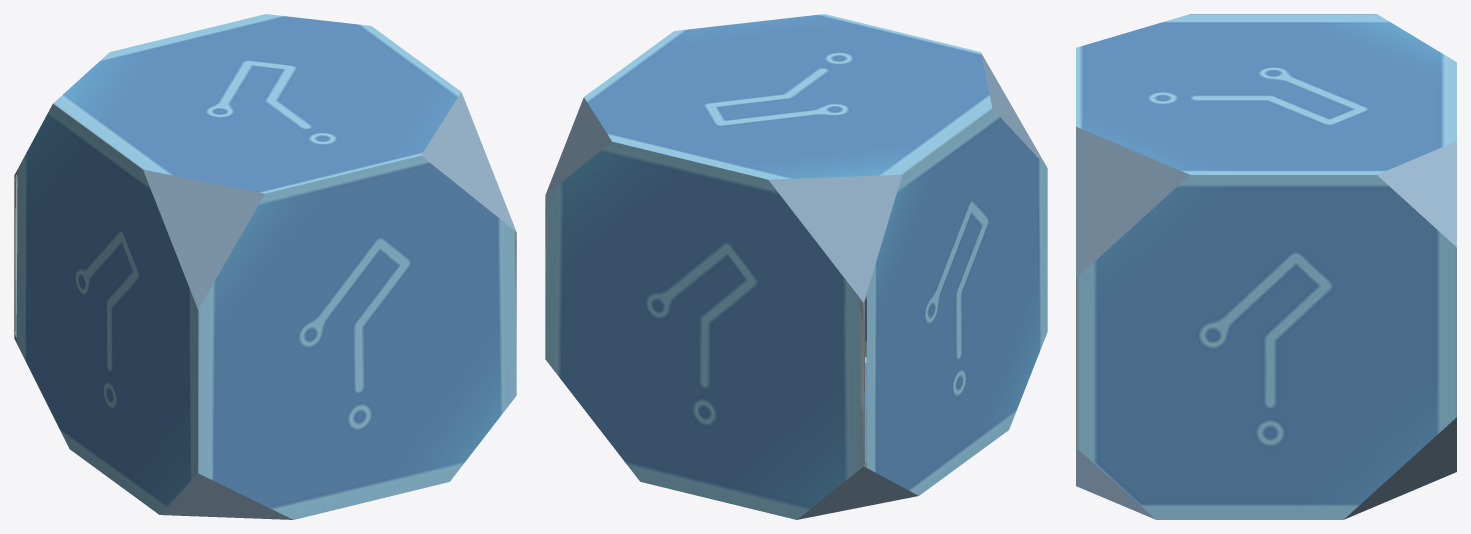
File: Build_Site_Node.fbx
3 renders of one model, left to right at view 1: azimuth 30°, elevation 25°; view 2: azimuth 150°, elevation 25°; view 3: azimuth 270°, elevation 25°, orthographic. The views are drawn at different scales.
Parts seen in each view (by area): view 1: pCube1; view 2: pCube1; view 3: pCube1.
Part boxes in pixels (box(x1,y1,x2,y2)): pCube1: box(14, 14, 516, 519); pCube1: box(545, 14, 1047, 519); pCube1: box(1076, 14, 1456, 519).
Size of the model in its own units: 422 by 422 by 422.
Materials: 2 (1 with a texture image).
